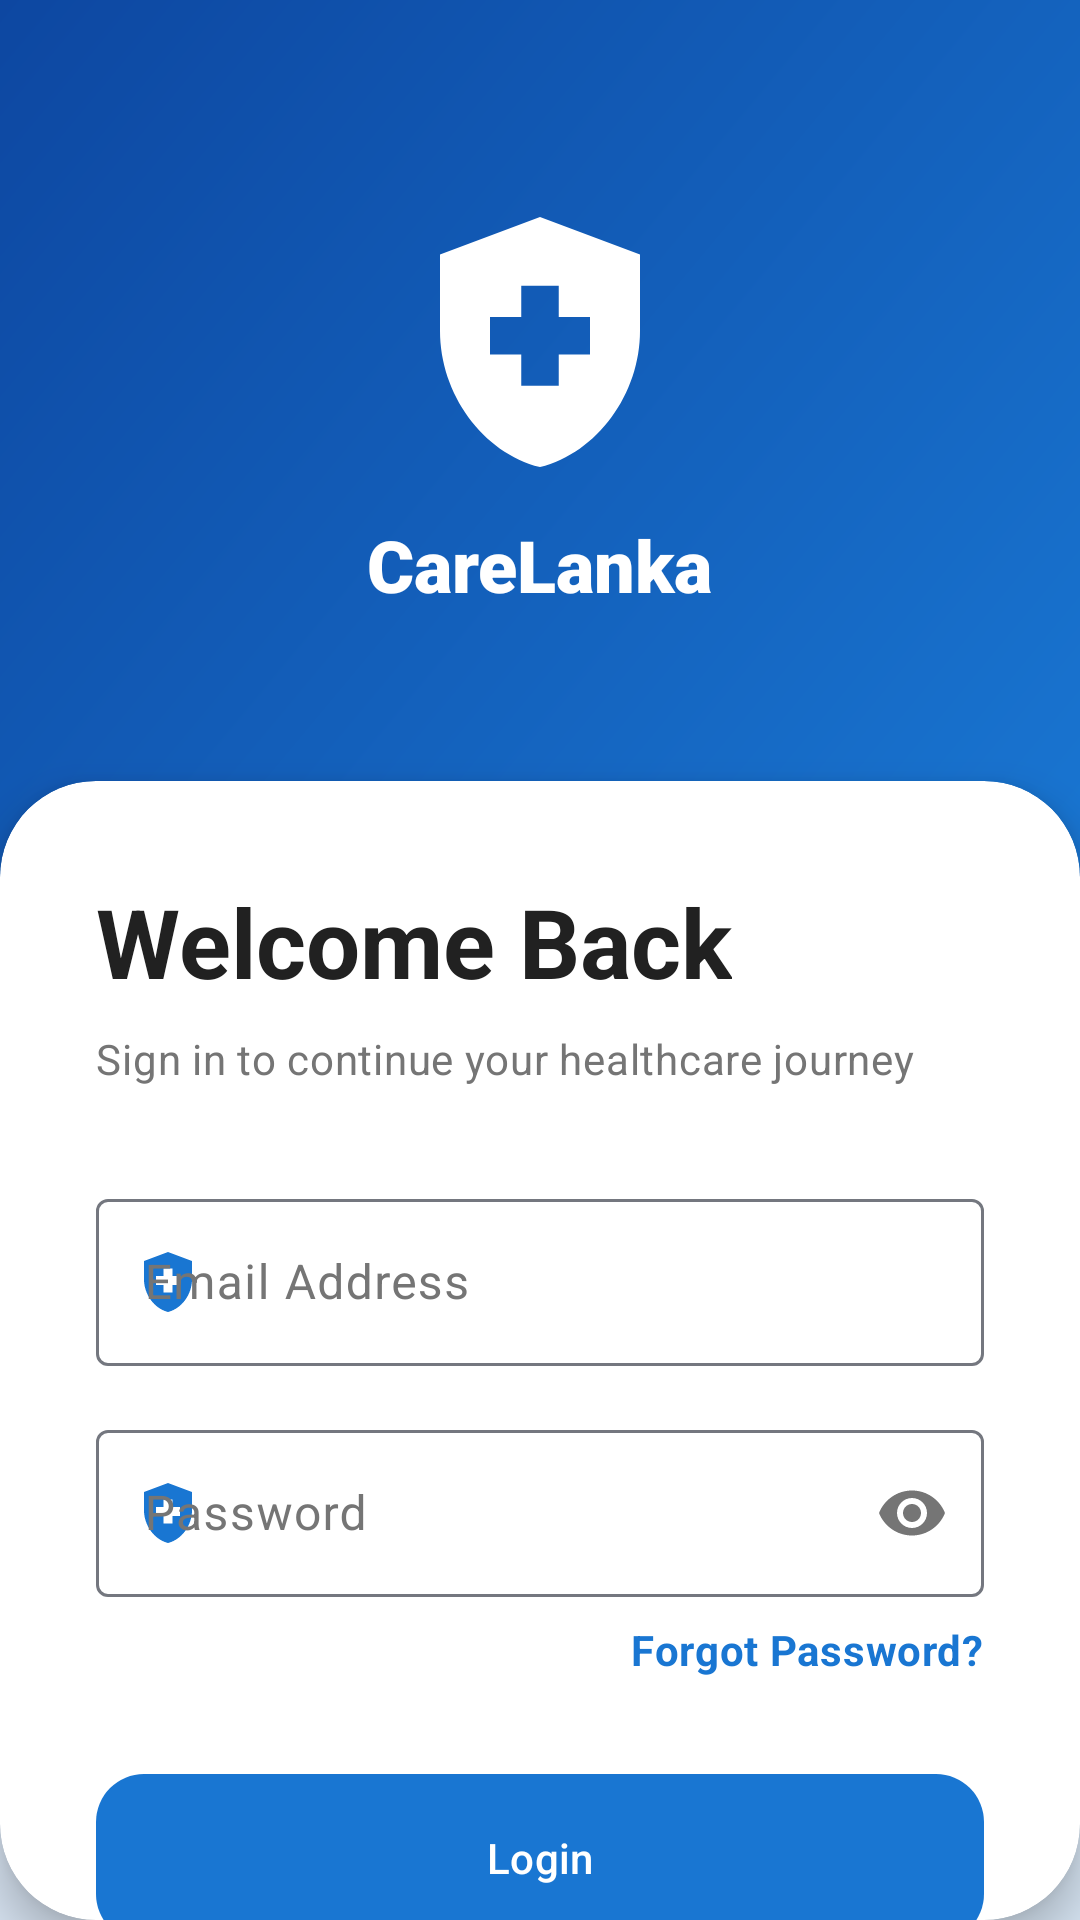

Icons on this 1080 x 1920 Android screen, each with the point to tap as point (x, y):
health and safety: point (540, 342)
